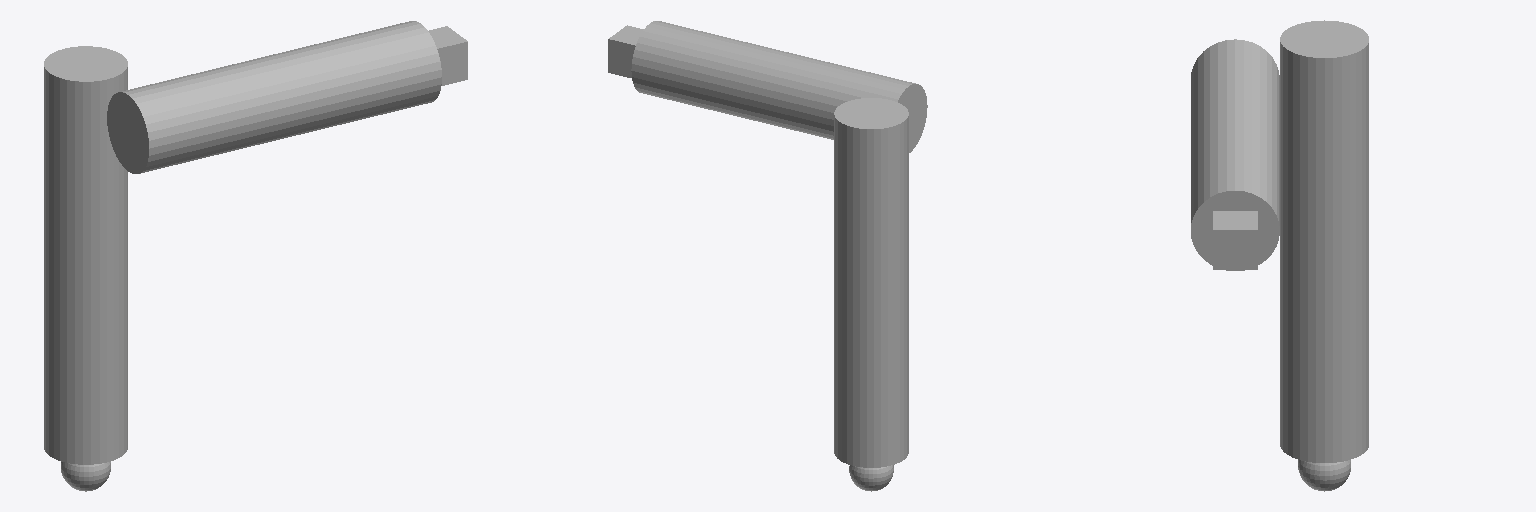
robot.urdf — arm:
<?xml version="1.0"?>

<!-- BASE LINK -->

<!-- HAVE TO MAKE SURE THAT THERE ARE NO COLLISIONS between the base_link and link_1 -->

<robot name="arm">
	<link name="world"/>
	<link name="base_link">
		
		<inertial>
			<mass value="0.5"/>
			<origin rpy="0 0 0" xyz="0 0 0.025"/>
			<inertia ixx="0.00018" iyy="0.00018" izz="0.00018"
					 ixy="0" ixz="0" iyz="0"/>
		</inertial>

		<visual>
			<geometry>
				<sphere radius="0.03"/>
			</geometry>
			<material name="grey">
				<color rgba="0.75 0.75 0.75 1"/>
			</material>
			<origin rpy="0 0 0" xyz="0 0 0.025"/>
		</visual>
		
		<collision>
			<geometry>
				<sphere radius="0.05"/>
			</geometry>
			<origin rpy="0 0 0" xyz="0 0 0.025"/>
		</collision>
	
	</link>
	
	<joint name="fixed" type="fixed">
		<parent link="world"/>
		<child link="base_link"/>
	</joint>

<!-- LINK 1 -->

	<link name="link_1">   
	
		<inertial>
			<mass value="1.0"/>
			<origin rpy="0 0 0" xyz="0 0 0.25"/>
			<inertia ixx="0.02146" iyy="0.02146" izz="0.00125"
					 ixy="0" ixz="0" iyz="0"/>
		</inertial>      
		
		<visual>
			<geometry>
				<cylinder length="0.5" radius="0.05"/>
			</geometry>
			<material name="grey">
				<color rgba="0.75 0.75 0.75 1"/>
			</material>
			<origin rpy="0 0 0" xyz="0 0 0.25"/>
		</visual>
		
		<collision>
			<geometry>
				<cylinder length="0.5" radius="0.05"/>
			</geometry>
			<origin rpy="0 0 0" xyz="0 0 0.25"/>
		</collision>
	
	</link>
	
	<joint name="joint_1" type="revolute">
		<!-- THE LINE BELOW IS USED TO DEFINE REVOLUTE JOINT'S PARAMS -->
		<limit upper="1.57" lower="-1.57" velocity="10" effort="10"/>     
		<axis xyz="0 1 0"/>
		<parent link="base_link"/>
		<child link="link_1"/>
		<origin rpy="0 0 0" xyz="0.0 0.0 0.05"/>
	</joint>

<!-- LINK 2 -->

	<link name="link_2">

		<inertial>
			<mass value="1.0"/>
			<origin rpy="0 0 0" xyz="0 0 0.2"/>
			<inertia ixx="0.01396" iyy="0.01396" izz="0.00125"
					 ixy="0" ixz="0" iyz="0"/>
		</inertial>
		
		<visual>
			<geometry>
				<cylinder length="0.4" radius="0.05"/>
			</geometry>
			<material name="grey"/>
			<origin rpy="0 0 0" xyz="0 0 0.2"/>
		</visual>
		
		<collision>
			<geometry>
				<cylinder length="0.4" radius="0.05"/>
			</geometry>
			<origin rpy="0 0 0" xyz="0 0 0.2"/>
		</collision>

	</link>
	
	<joint name="joint_2" type="continuous">
		<axis xyz="0 1 0"/>
		<parent link="link_1"/>
		<child link="link_2"/>
		<origin rpy="0 1.5708 0" xyz="0.0 -0.1 0.45"/>
	</joint>

<!-- END EFFECTOR -->
	
	<link name="link_ee">
		
		<inertial>
			<mass value="1.0"/>
			<inertia ixx="0.00042" iyy="0.00042" izz="0.00042"
					 ixy="0" ixz="0" iyz="0"/>
		</inertial>
		
		<visual>
			<geometry>
				<box size="0.05 0.05 0.05"/>
			</geometry>
			<material name="grey"/>
		</visual>
		
		<collision>
			<geometry>
				<box size="0.05 0.05 0.05"/>
			</geometry>
		</collision>
	
	</link>
	
	<joint name="joint_ee" type="continuous">
		<axis xyz="0 0 1"/>
		<parent link="link_2"/>
		<child link="link_ee"/>
		<origin rpy="0 0 0" xyz="0.0 0.0 0.425"/>
	</joint>

</robot>

--- Facts derived from the render (not from the file) ---
3 views of the same robot in one strip: view 1: azimuth 30°, elevation 25°; view 2: azimuth 150°, elevation 25°; view 3: azimuth 270°, elevation 25° (orthographic).
Robot: arm — 5 links, 4 joints (1 revolute, 2 continuous, 1 fixed); root link world; default pose: all joints at 0.
Links seen in each view (by area): view 1: link_1, link_2, link_ee, base_link; view 2: link_1, link_2, link_ee, base_link; view 3: link_1, link_2, link_ee, base_link.
Boxes of the visible links, box(x1,y1,x2,y2) form: link_1: box(44, 46, 127, 464); link_2: box(107, 21, 441, 173); link_ee: box(428, 26, 467, 85); base_link: box(61, 461, 110, 491); link_1: box(834, 98, 908, 467); link_2: box(631, 21, 927, 152); link_ee: box(608, 25, 643, 77); base_link: box(849, 465, 893, 491); link_1: box(1280, 20, 1368, 462); link_2: box(1191, 39, 1279, 270); link_ee: box(1213, 211, 1257, 269); base_link: box(1298, 460, 1350, 491).
Size in the robot's own frame: 0.5 by 0.2 by 0.555 metres.
Geometry: primitives only (box / cylinder / sphere), no mesh files.